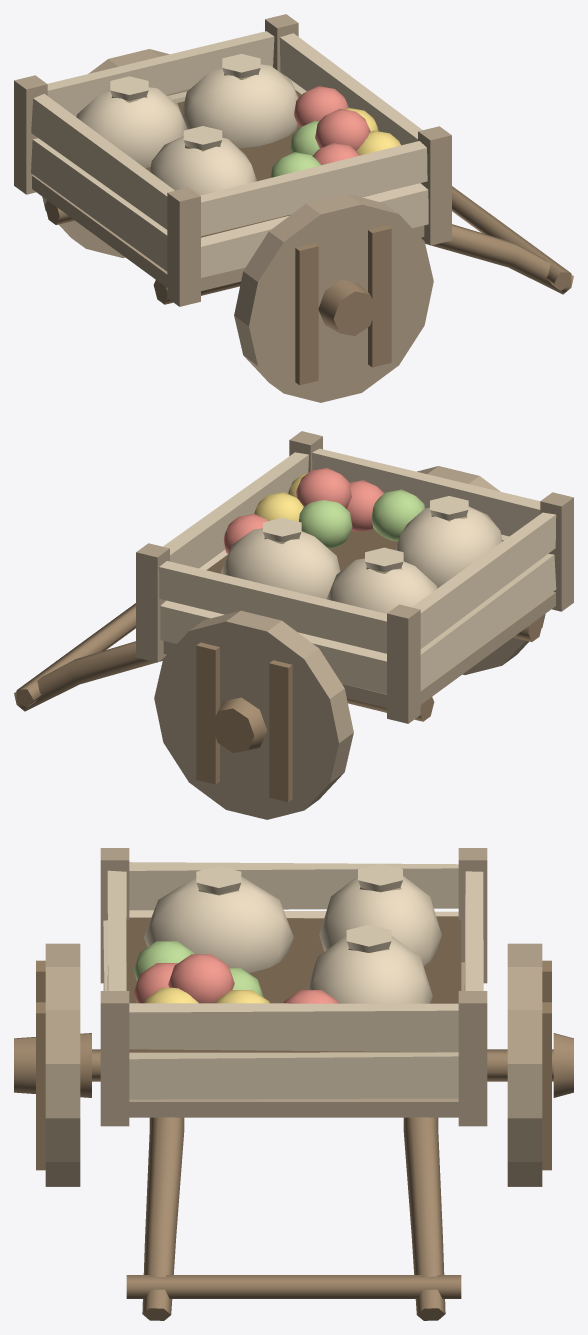
Rendered from building.cart.glb.
The picture shows the model from 3 angles, top to bottom: view 1: azimuth 30°, elevation 25°; view 2: azimuth 150°, elevation 25°; view 3: azimuth 270°, elevation 25°; orthographic projection. The views are drawn at different scales.
Visible parts, largest first — view 1: PaintDark, Paint, Hide, Wood, FruitRed, FruitGreen, Door, FruitGold; view 2: PaintDark, Paint, Hide, Wood, FruitGreen, FruitRed, Door, FruitGold; view 3: Paint, PaintDark, Wood, Hide, Door, FruitRed, FruitGreen, FruitGold.
Part boxes in pixels (x1,y1,x2,y2): PaintDark: [14, 14, 451, 402]; Paint: [31, 31, 428, 277]; Hide: [76, 54, 298, 195]; Wood: [45, 186, 573, 385]; FruitRed: [294, 86, 370, 165]; FruitGreen: [270, 120, 320, 177]; Door: [145, 90, 369, 237]; FruitGold: [344, 107, 400, 155]; PaintDark: [136, 431, 573, 819]; Paint: [159, 448, 556, 694]; Hide: [221, 496, 502, 613]; Wood: [14, 603, 542, 802]; FruitGreen: [299, 489, 424, 548]; FruitRed: [223, 468, 383, 554]; Door: [207, 529, 398, 573]; FruitGold: [254, 473, 307, 521]; Paint: [103, 862, 483, 1099]; PaintDark: [45, 848, 542, 1186]; Wood: [14, 960, 573, 1320]; Hide: [144, 863, 441, 1003]; Door: [126, 916, 461, 1052]; FruitRed: [133, 954, 338, 1003]; FruitGreen: [133, 941, 263, 997]; FruitGold: [144, 987, 269, 1003].
Bounding box in the file's own units: 0.9711 × 0.5 × 0.97.
